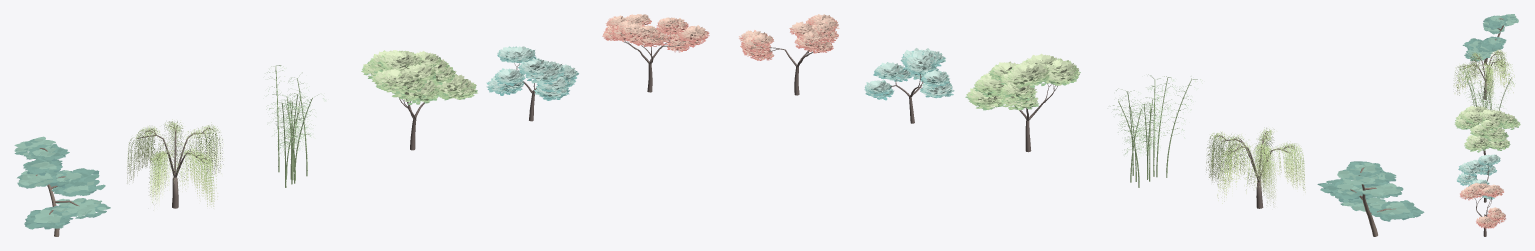
File: plants.glb
3 renders of one model, left to right at view 1: azimuth 30°, elevation 25°; view 2: azimuth 150°, elevation 25°; view 3: azimuth 270°, elevation 25°, orthographic. The views are drawn at different scales.
Parts seen in each view (by area): view 1: willow, pine, tree_green, tree_teal, maple, bamboo; view 2: tree_green, willow, pine, tree_teal, maple, bamboo; view 3: tree_green, willow, pine, maple, tree_teal, bamboo.
Part boxes in pixels (x1=…): willow: x1=127, y1=119, x2=224, y2=209; pine: x1=14, y1=136, x2=110, y2=236; tree_green: x1=361, y1=50, x2=477, y2=150; tree_teal: x1=486, y1=46, x2=578, y2=121; maple: x1=602, y1=14, x2=709, y2=92; bamboo: x1=266, y1=65, x2=325, y2=187; tree_green: x1=965, y1=53, x2=1080, y2=152; willow: x1=1206, y1=127, x2=1305, y2=208; pine: x1=1317, y1=161, x2=1424, y2=236; tree_teal: x1=864, y1=48, x2=954, y2=123; maple: x1=739, y1=14, x2=839, y2=95; bamboo: x1=1110, y1=74, x2=1202, y2=187; tree_green: x1=1454, y1=106, x2=1520, y2=155; willow: x1=1453, y1=49, x2=1514, y2=99; pine: x1=1462, y1=14, x2=1518, y2=64; maple: x1=1460, y1=183, x2=1505, y2=236; tree_teal: x1=1457, y1=154, x2=1500, y2=202; bamboo: x1=1461, y1=67, x2=1515, y2=124.
Size of the model in its own units: 69.85 by 9.53 by 9.98.
